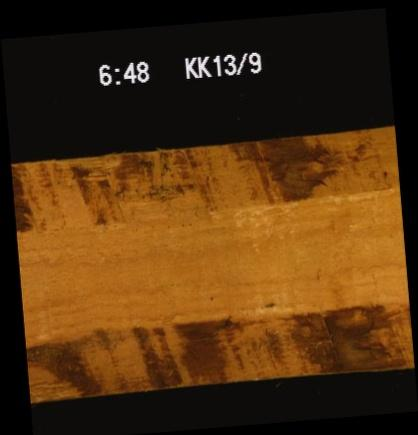wave: (12, 139, 395, 214), (26, 314, 409, 385)
